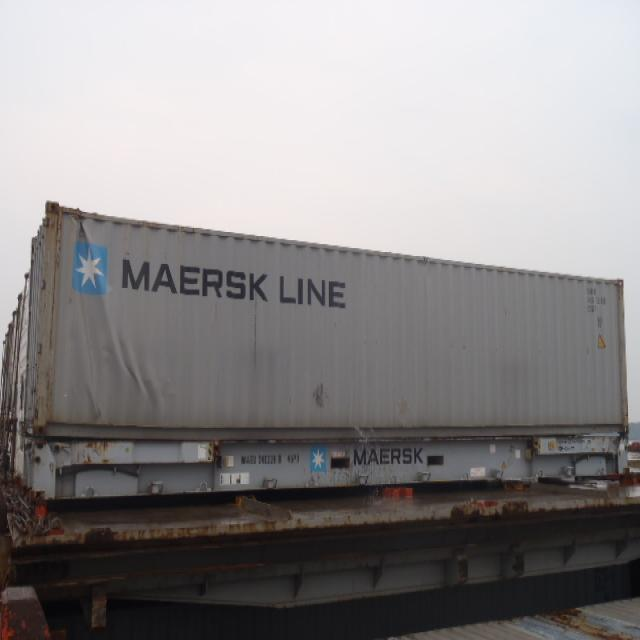dent: (61, 216, 121, 365), (122, 338, 161, 415), (87, 382, 108, 423), (73, 207, 90, 231)
